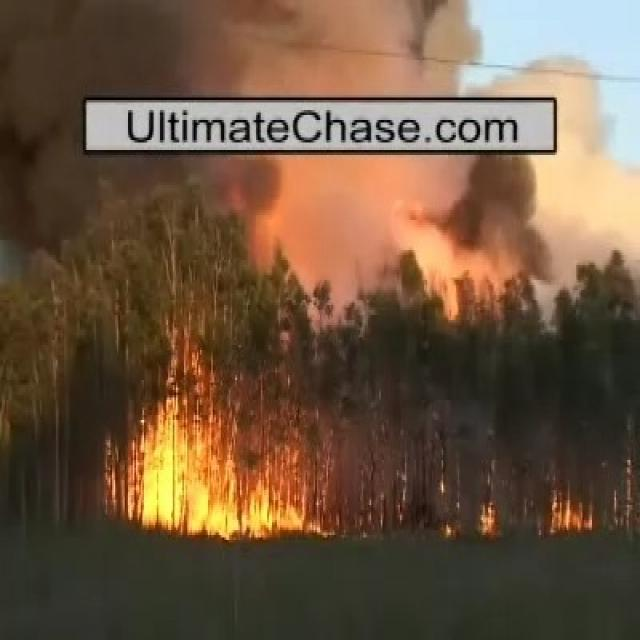fire: (140, 406, 294, 532)
smoke: (86, 3, 483, 94), (258, 158, 556, 254)
